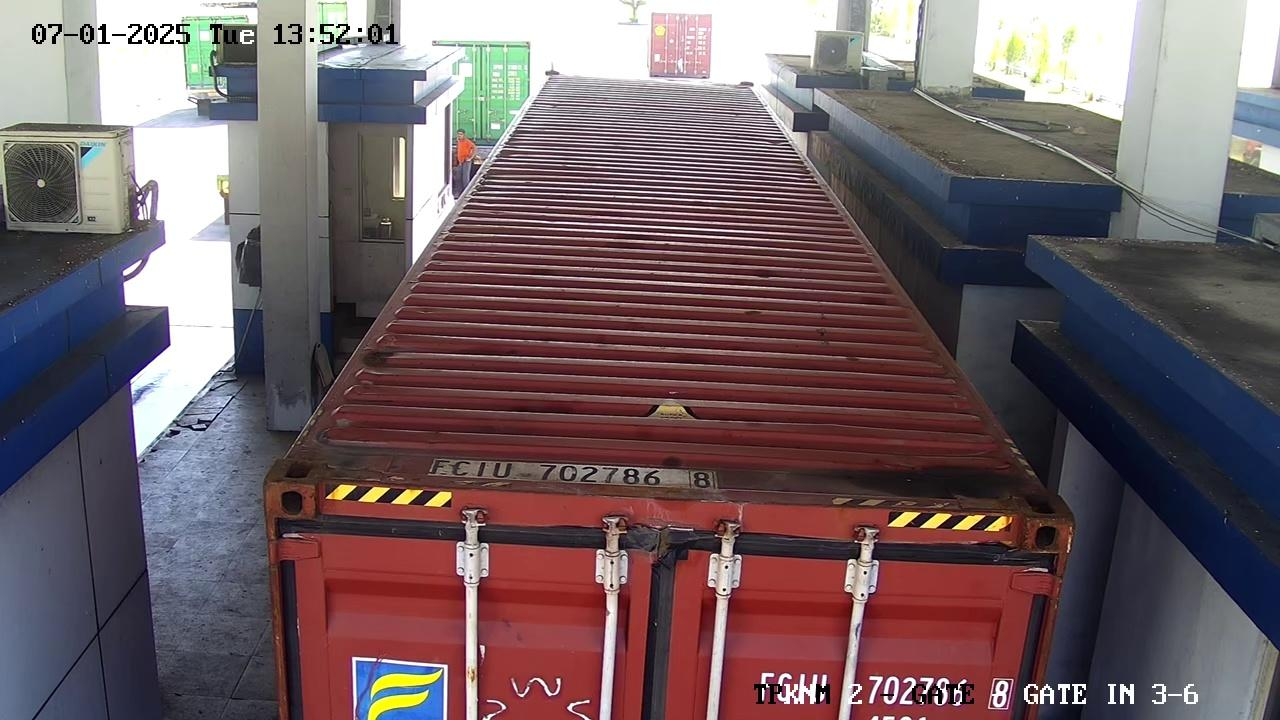Container_ID: (411, 447, 743, 505)
